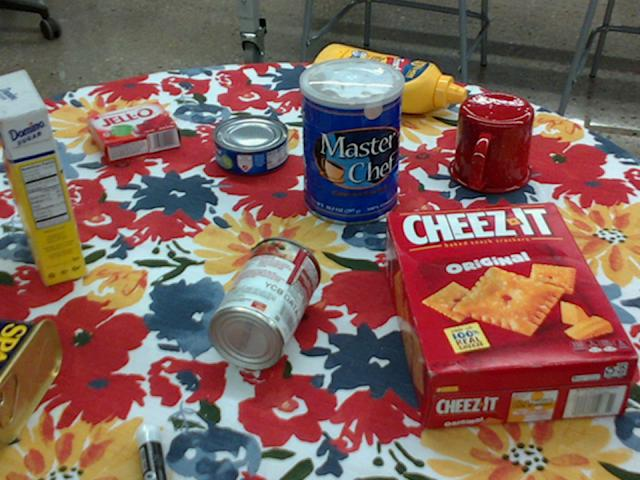cracker_box: (383, 202, 635, 430)
gelatin_box: (87, 104, 179, 164)
large_marker: (135, 423, 166, 479)
master_chef_can: (300, 58, 405, 226)
mug: (448, 93, 534, 194)
mustard_bottle: (309, 44, 465, 112)
potted_meat_can: (0, 316, 61, 440)
sugar_box: (0, 68, 86, 285)
tomato_soup_can: (208, 237, 319, 370)
tuna_fish_can: (211, 115, 287, 176)
